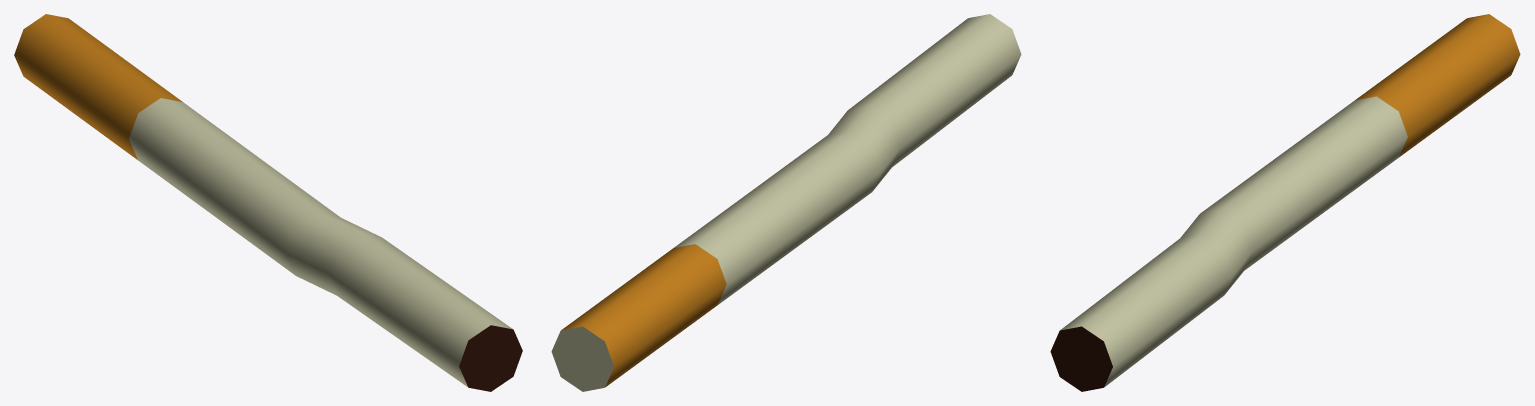
Rendered from cigarette.fbx.
3 views of the same model, side by side, from view 1: azimuth 30°, elevation 25°; view 2: azimuth 150°, elevation 25°; view 3: azimuth 330°, elevation 25° (orthographic).
Visible parts, largest first — view 1: Cylinder001; view 2: Cylinder001; view 3: Cylinder001.
Boxes of the visible parts, bbox=[...] form: Cylinder001: bbox=[14, 14, 522, 391]; Cylinder001: bbox=[551, 14, 1021, 391]; Cylinder001: bbox=[1050, 14, 1520, 391].
Bounding box in the file's own units: 14.79 × 12 × 140.
